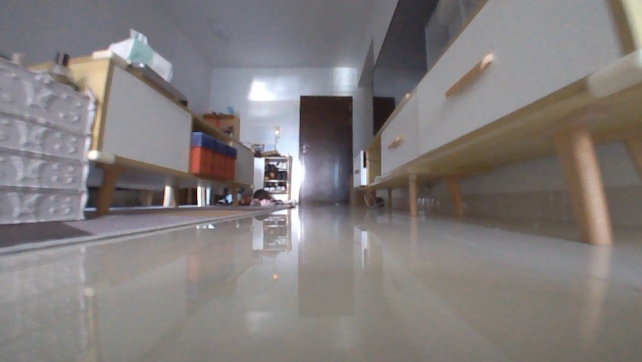TV_stand: (348, 0, 641, 248)
blanket: (0, 203, 285, 255)
door_anno: (295, 92, 355, 208)
tea_table: (28, 52, 257, 215)
